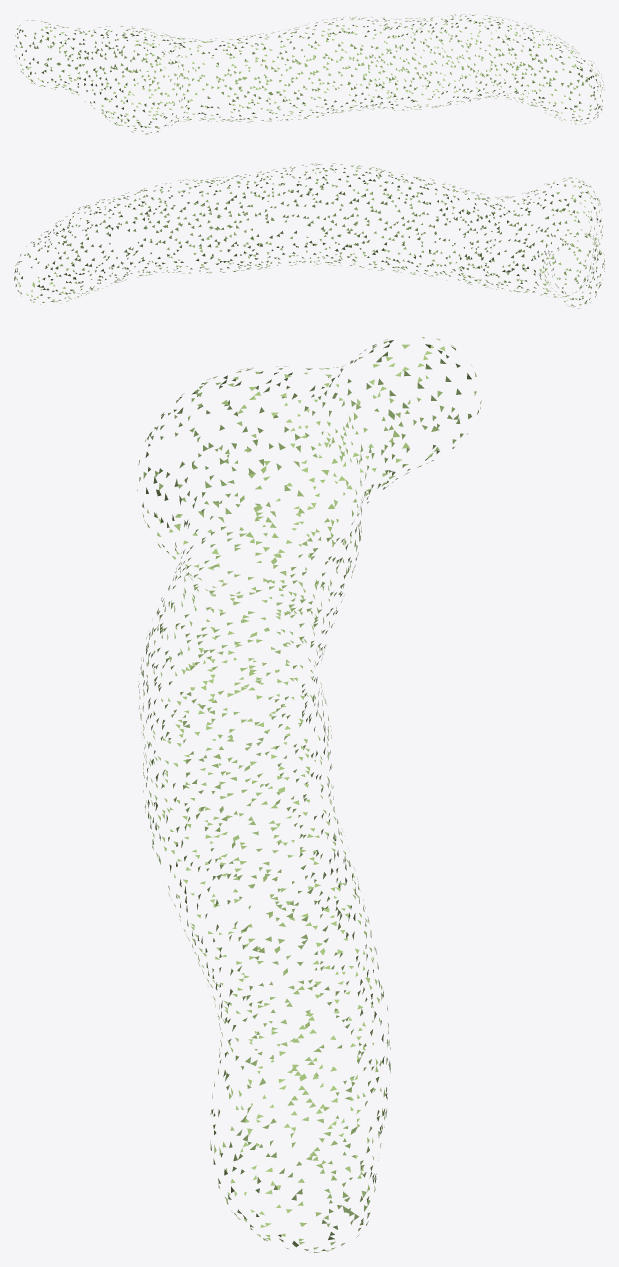
Rendered from morph_012.glb.
3 views of the same model, one above another, from view 1: azimuth 30°, elevation 25°; view 2: azimuth 150°, elevation 25°; view 3: azimuth 270°, elevation 25° (orthographic). The views are drawn at different scales.
Size of the model in its own units: 130 by 47.62 by 35.11.
